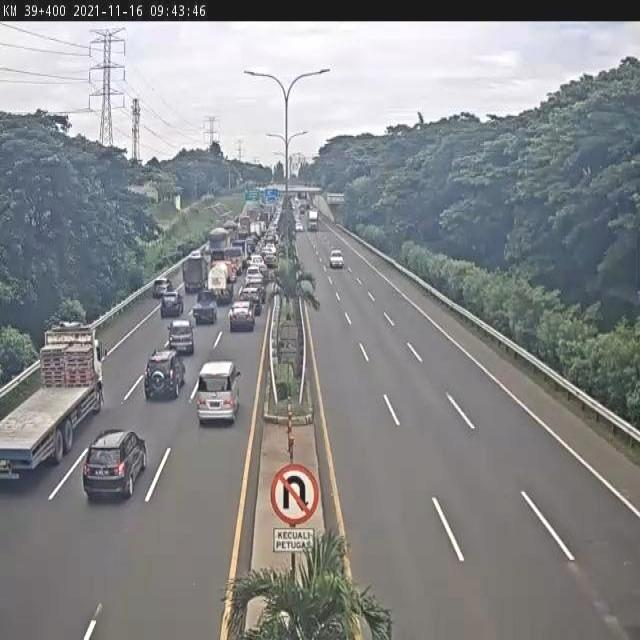Car: (81, 430, 148, 500), (144, 347, 186, 400), (167, 318, 195, 354), (228, 302, 256, 332), (238, 284, 264, 314), (160, 289, 184, 317), (152, 278, 171, 298), (330, 249, 344, 268), (295, 222, 303, 232)
Truck: (0, 323, 106, 478), (182, 251, 208, 294), (208, 264, 232, 304), (192, 292, 218, 325), (308, 210, 318, 232)
Van: (195, 359, 242, 424)
